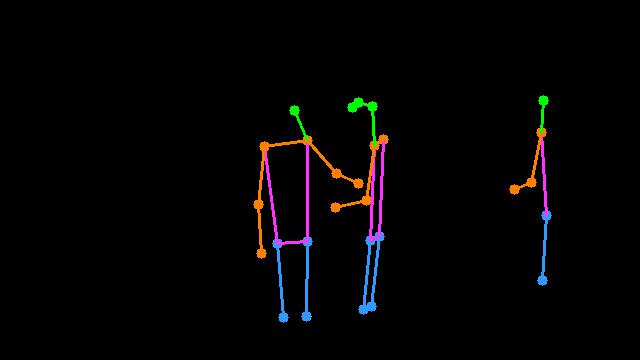normal: (241, 87, 406, 337)
